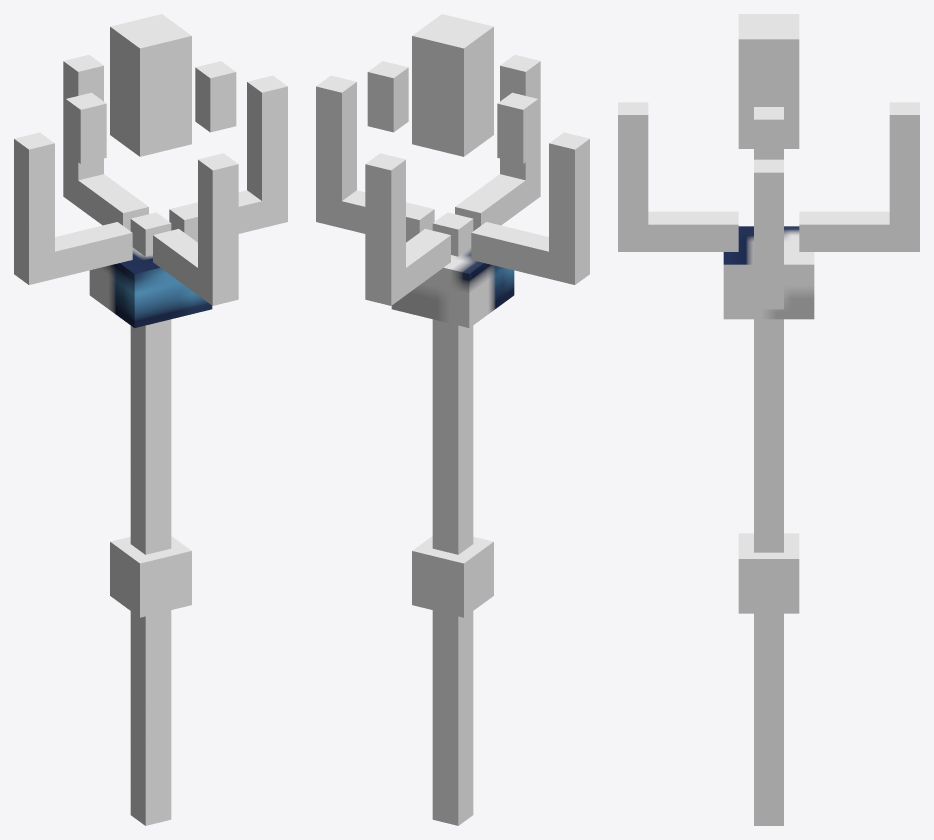
Rendered from whisper.obj.
3 views of the same model, side by side, from view 1: azimuth 30°, elevation 25°; view 2: azimuth 150°, elevation 25°; view 3: azimuth 270°, elevation 25° (orthographic).
Visible parts, largest first — view 1: handle, powermain, headpart1_1, headpart1_3, headpart1_2, handlepart2, handlepart1, head4, headpart1, powerpart2, powerpart1, head1 (+2 smaller); view 2: handle, powermain, headpart1, headpart1_3, headpart1_2, handlepart2, handlepart1, head4, headpart1_1, powerpart2, powerpart1, head2 (+2 smaller); view 3: handle, powermain, handlepart2, headpart1, headpart1_1, headpart1_2, handlepart1, head1, head2, powerpart1.
Boxes of the visible parts, bbox=[...] form: handle: bbox=[130, 212, 171, 825]; powermain: bbox=[110, 14, 191, 156]; headpart1_1: bbox=[198, 153, 238, 305]; headpart1_3: bbox=[14, 132, 54, 284]; headpart1_2: bbox=[247, 75, 287, 228]; handlepart2: bbox=[89, 247, 212, 328]; handlepart1: bbox=[110, 536, 191, 617]; head4: bbox=[55, 222, 132, 278]; headpart1: bbox=[63, 55, 103, 206]; powerpart2: bbox=[65, 92, 106, 163]; powerpart1: bbox=[195, 61, 236, 132]; head1: bbox=[78, 174, 148, 230]; handle: bbox=[432, 212, 473, 825]; powermain: bbox=[412, 14, 493, 156]; headpart1: bbox=[365, 153, 405, 305]; headpart1_3: bbox=[549, 132, 589, 284]; headpart1_2: bbox=[316, 75, 356, 228]; handlepart2: bbox=[391, 247, 514, 328]; handlepart1: bbox=[412, 536, 493, 617]; head4: bbox=[471, 222, 548, 278]; headpart1_1: bbox=[500, 55, 540, 206]; powerpart2: bbox=[497, 92, 538, 163]; powerpart1: bbox=[367, 61, 408, 132]; head2: bbox=[455, 174, 525, 230]; handle: bbox=[754, 319, 783, 825]; powermain: bbox=[738, 14, 799, 148]; handlepart2: bbox=[723, 226, 814, 319]; headpart1: bbox=[889, 102, 919, 251]; headpart1_1: bbox=[618, 102, 648, 251]; headpart1_2: bbox=[754, 159, 783, 309]; handlepart1: bbox=[738, 533, 799, 613]; head1: bbox=[799, 211, 889, 251]; head2: bbox=[648, 211, 738, 251]; powerpart1: bbox=[754, 107, 783, 159].
Bounding box in the file's own units: 0.625 × 1.81 × 0.625.
